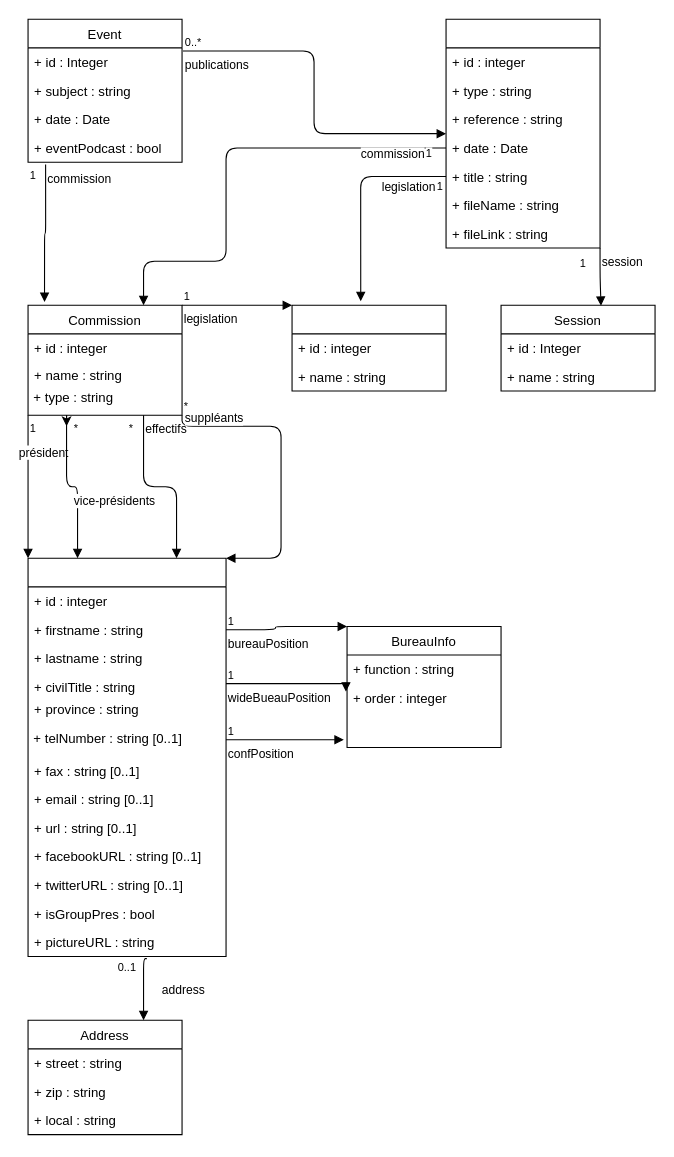
The diagram is 674 pixels wide and 1157 high, and some of its shapes have lost their labels. Here are the shapes that lost their labels. From the top down, the box of each, then its label:
(445, 18, 600, 248): Publication
(291, 304, 446, 391): Legislature
(27, 557, 226, 956): Deputy
